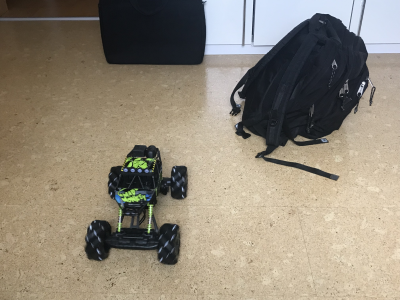remote control car: (83, 142, 189, 267)
